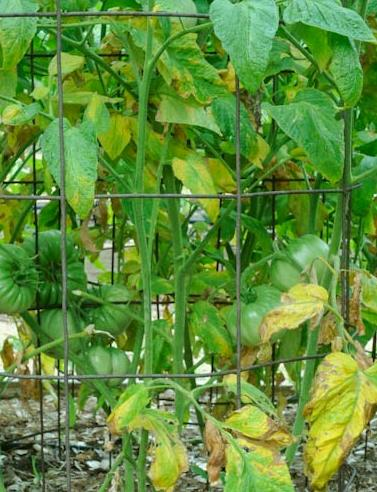Tomato Early blight leaf: (93, 386, 192, 492), (303, 349, 371, 484), (204, 407, 294, 492), (253, 279, 325, 357), (170, 157, 220, 221), (98, 109, 134, 160)
Tomato leaf: (211, 0, 277, 100), (276, 84, 345, 179), (284, 0, 374, 36)
